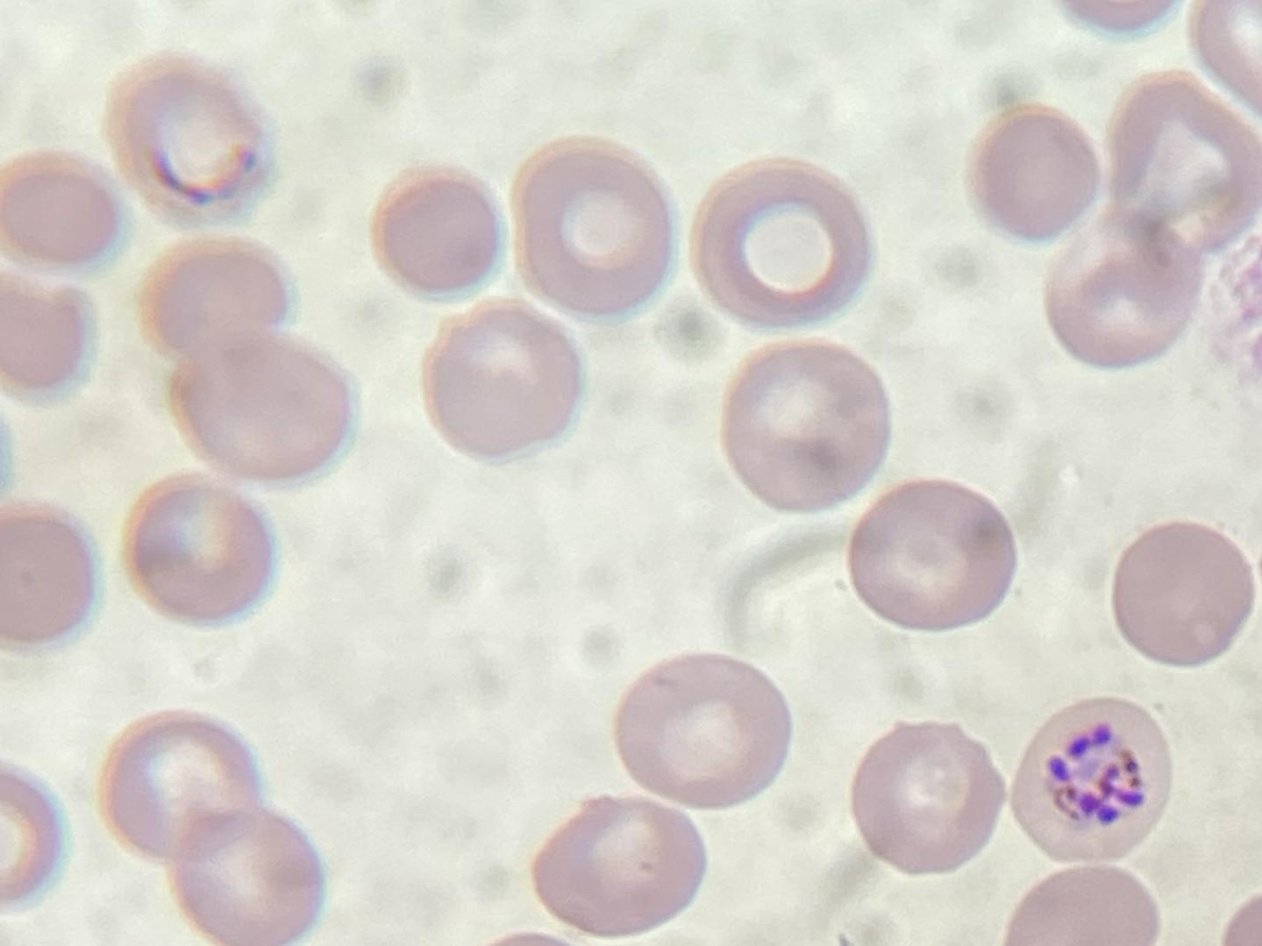Infected: (1010, 698, 1170, 863)
Uninfected: (691, 160, 874, 330), (504, 139, 672, 317), (1105, 70, 1262, 257), (107, 53, 275, 224), (721, 340, 890, 509), (168, 331, 354, 484), (613, 652, 786, 808), (848, 479, 1017, 632), (422, 302, 583, 462), (102, 713, 269, 864), (1045, 217, 1208, 370), (533, 795, 701, 936), (850, 722, 1004, 873), (123, 476, 275, 622), (170, 807, 324, 945), (1109, 520, 1251, 669), (138, 236, 296, 359), (371, 166, 509, 302), (968, 101, 1102, 241), (0, 151, 127, 277)
